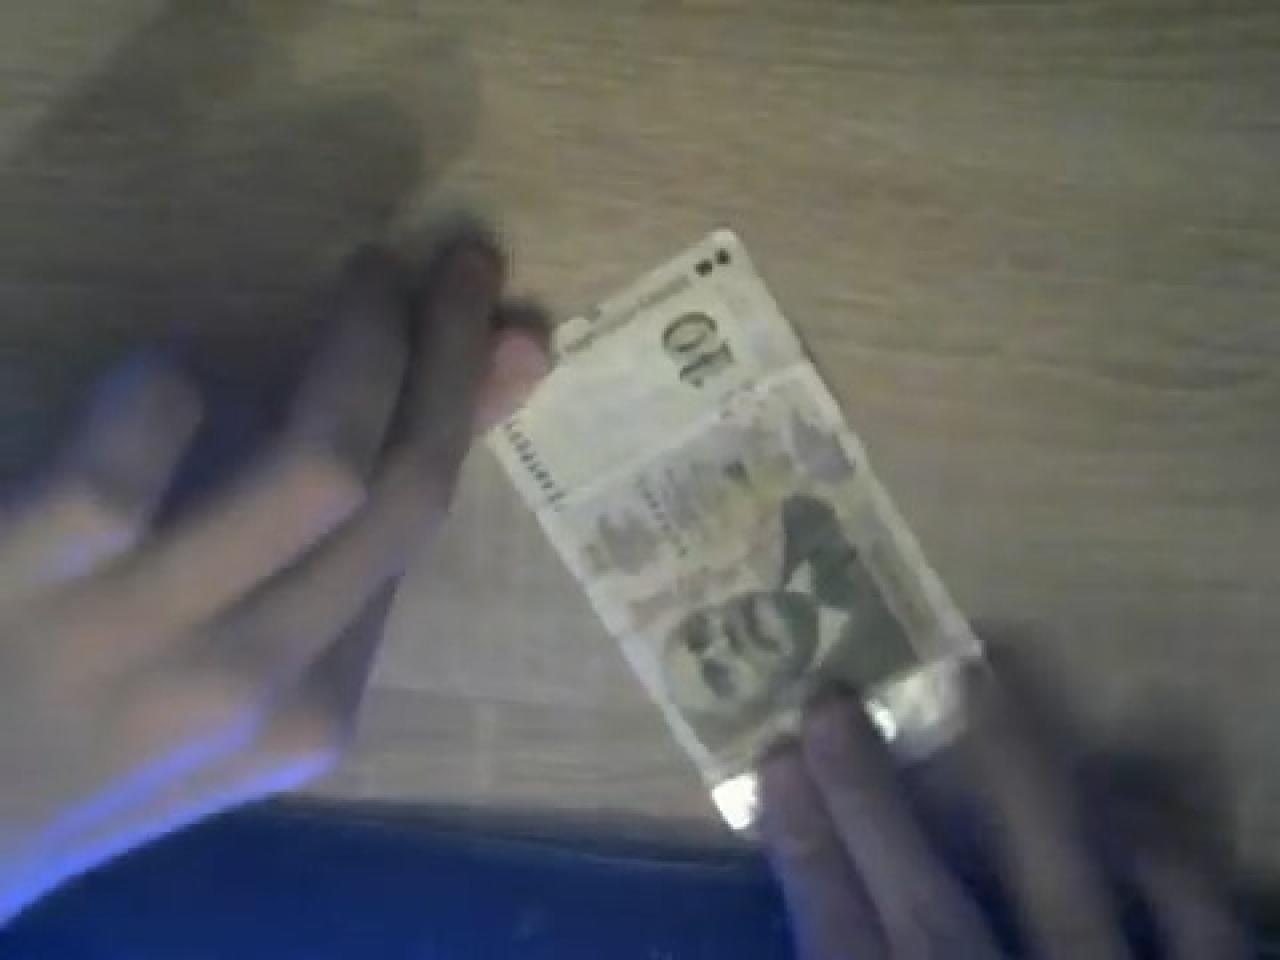10leva: (488, 224, 990, 832)
